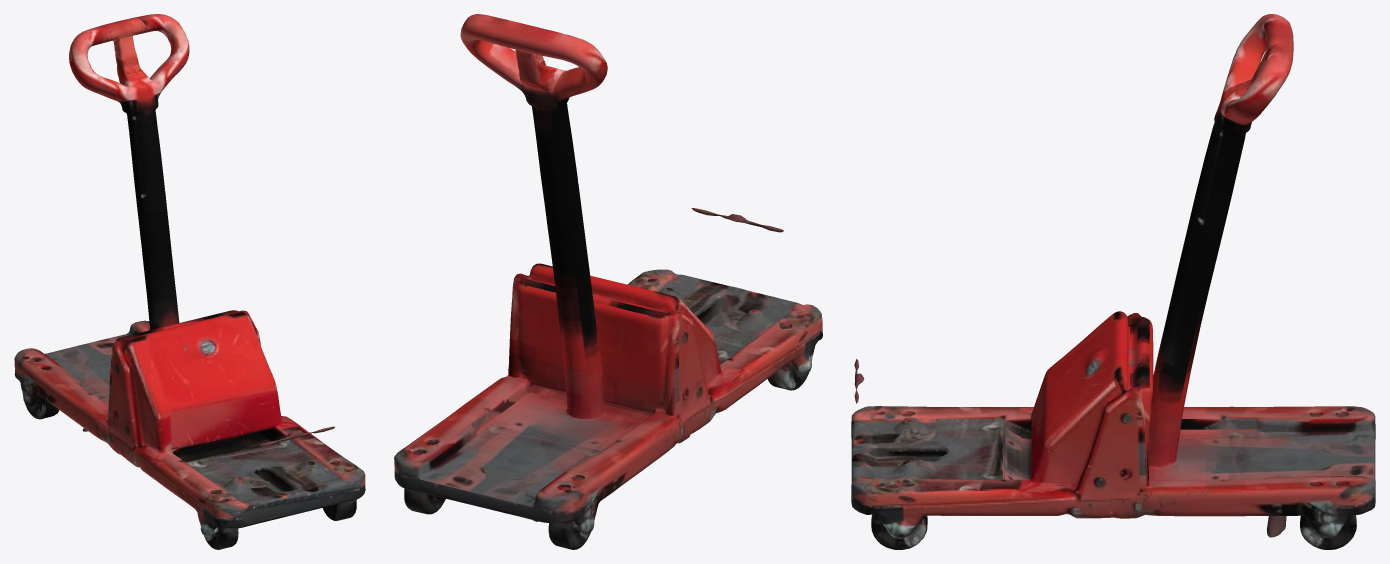
File: pallet-jack.glb
3 renders of one model, left to right at view 1: azimuth 30°, elevation 25°; view 2: azimuth 150°, elevation 25°; view 3: azimuth 270°, elevation 25°, orthographic. The views are drawn at different scales.
Visible parts, largest first — view 1: cowninja-pallet-jack; view 2: cowninja-pallet-jack; view 3: cowninja-pallet-jack.
Boxes of the visible parts, left/top/right/bottom form: cowninja-pallet-jack: left=14, top=14, right=365, bottom=549; cowninja-pallet-jack: left=394, top=14, right=822, bottom=549; cowninja-pallet-jack: left=851, top=14, right=1375, bottom=549.
Bounding box in the file's own units: 0.6486 × 1.6 × 1.59.
1 material, 1 textured.
